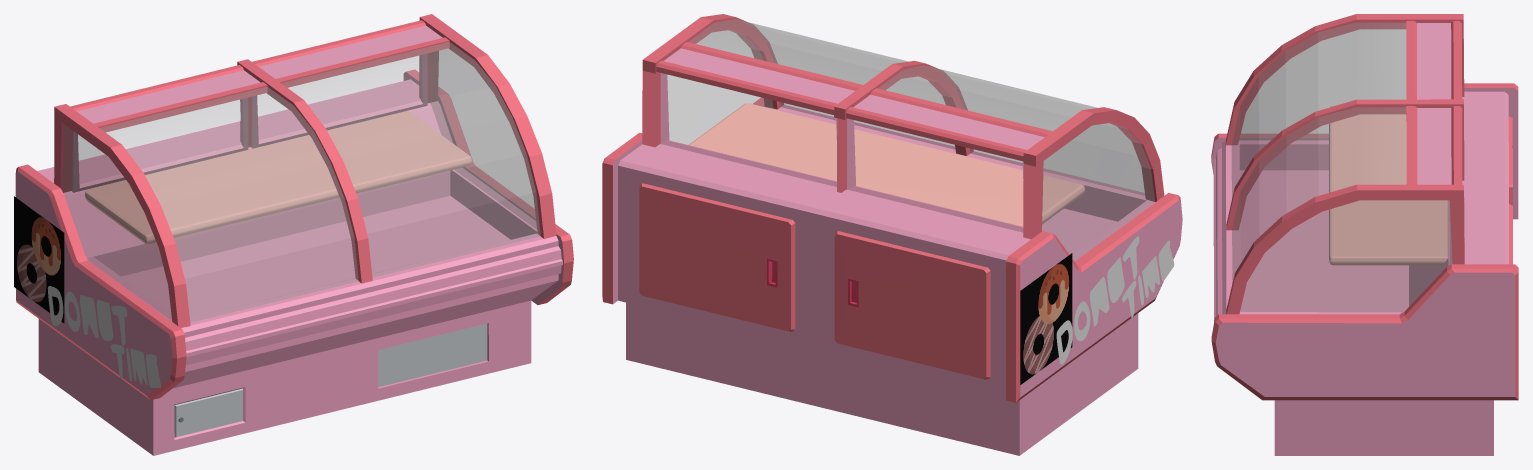
File: donut-stand-rev.fbx
3 views of the same model, side by side, from view 1: azimuth 30°, elevation 25°; view 2: azimuth 150°, elevation 25°; view 3: azimuth 270°, elevation 25° (orthographic). The views are drawn at different scales.
Visible parts, largest first — view 1: SM_Prop_Market_Deli_Fridge_02, pCube72, pPlane3, typeMesh1; view 2: SM_Prop_Market_Deli_Fridge_02, pCube72, pPlane3, typeMesh1; view 3: SM_Prop_Market_Deli_Fridge_02, pCube72.
Boxes of the visible parts, bbox=[...] form: SM_Prop_Market_Deli_Fridge_02: bbox=[15, 14, 573, 455]; pCube72: bbox=[85, 111, 472, 243]; pPlane3: bbox=[14, 196, 64, 323]; typeMesh1: bbox=[47, 286, 160, 387]; SM_Prop_Market_Deli_Fridge_02: bbox=[602, 14, 1182, 455]; pCube72: bbox=[683, 103, 1084, 232]; pPlane3: bbox=[1020, 253, 1072, 384]; typeMesh1: bbox=[1056, 236, 1174, 364]; SM_Prop_Market_Deli_Fridge_02: bbox=[1211, 14, 1518, 455]; pCube72: bbox=[1329, 105, 1447, 265].
Bounding box in the file's own units: 814 × 535 × 561.
4 materials, 2 textured.
